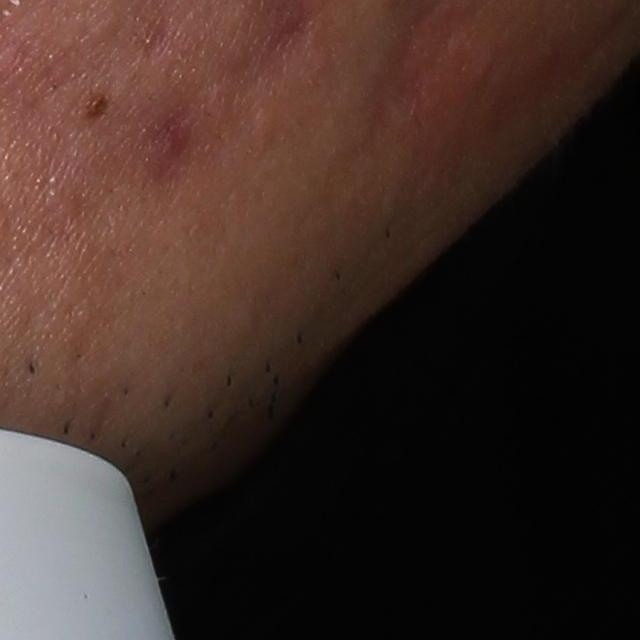nevus: (79, 90, 111, 125)
